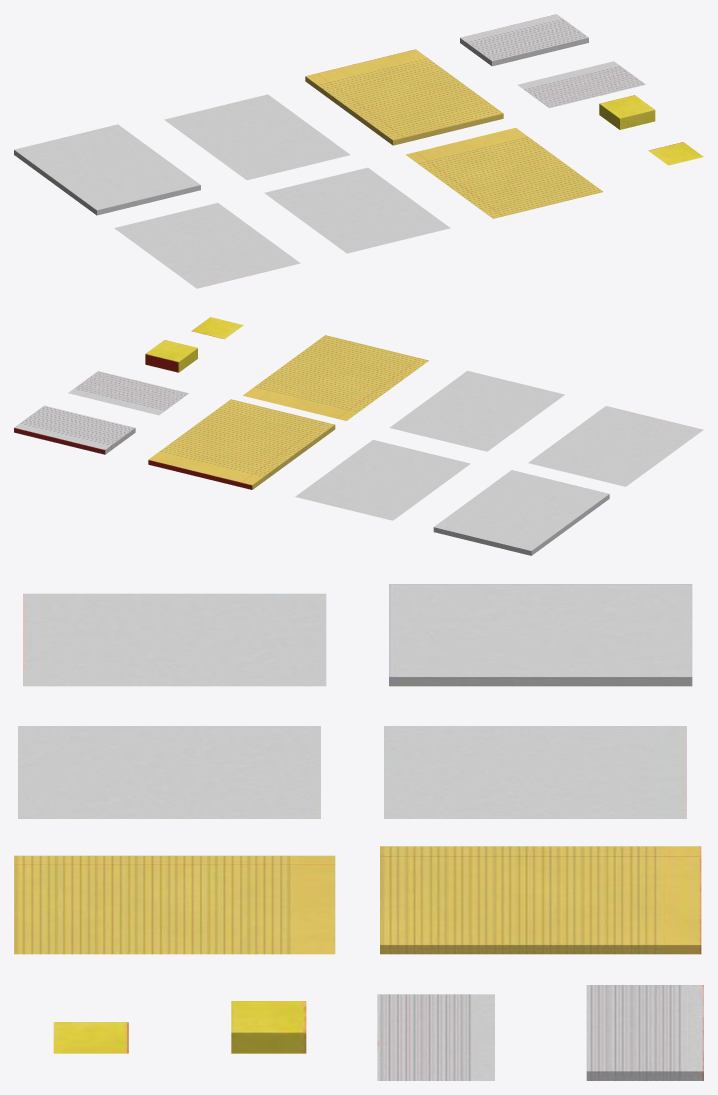
Rendered from office_notepads.glb.
3 renders of one model, top to bottom at view 1: azimuth 30°, elevation 25°; view 2: azimuth 150°, elevation 25°; view 3: azimuth 270°, elevation 25°, orthographic. The views are drawn at different scales.
Visible parts, largest first — view 1: office_notepads; view 2: office_notepads; view 3: office_notepads.
Part boxes in pixels (x1,y1,x2,y2): office_notepads: (14,14,703,288); office_notepads: (14,317,703,555); office_notepads: (14,584,703,1080).
Size of the model in its own units: 1.1 by 0.022 by 0.6598.
Materials: 1 (1 with a texture image).
